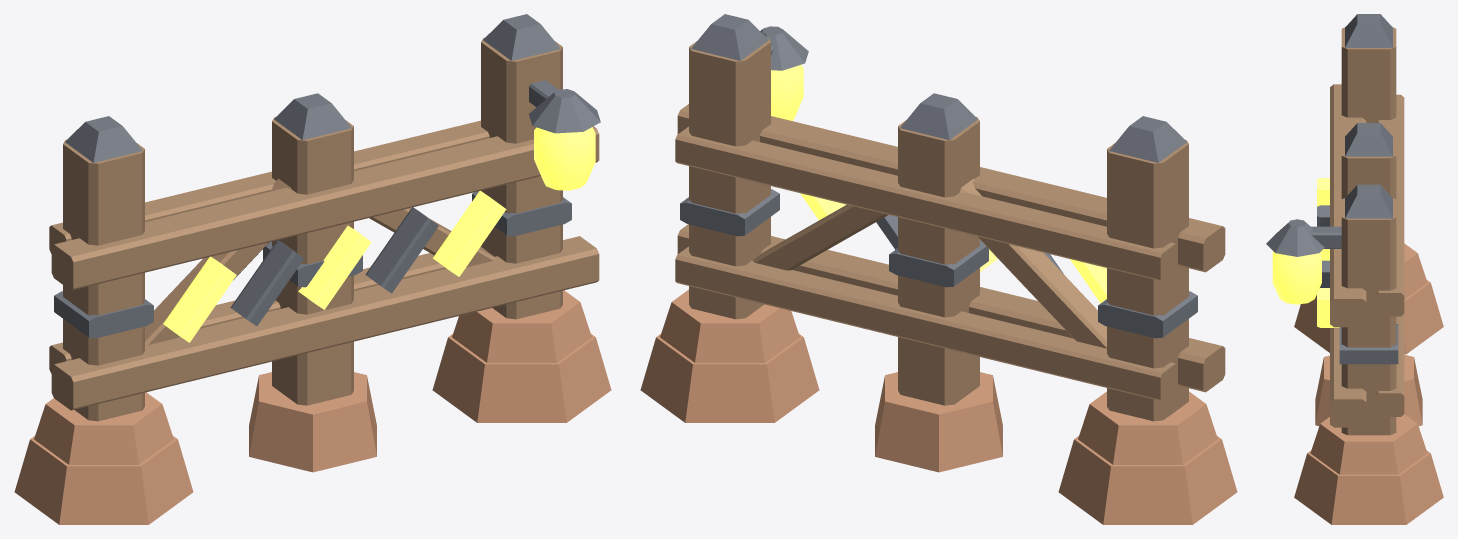
The model's file is prop_fence.glb.
3 renders of one model, left to right at view 1: azimuth 30°, elevation 25°; view 2: azimuth 150°, elevation 25°; view 3: azimuth 270°, elevation 25°, orthographic. The views are drawn at different scales.
Parts seen in each view (by area): view 1: Body; view 2: Body; view 3: Body.
Boxes of the visible parts, bbox=[...] form: Body: bbox=[14, 14, 611, 524]; Body: bbox=[640, 14, 1237, 524]; Body: bbox=[1266, 14, 1443, 524].
Size of the model in its own units: 0.8192 by 0.522 by 0.273.
